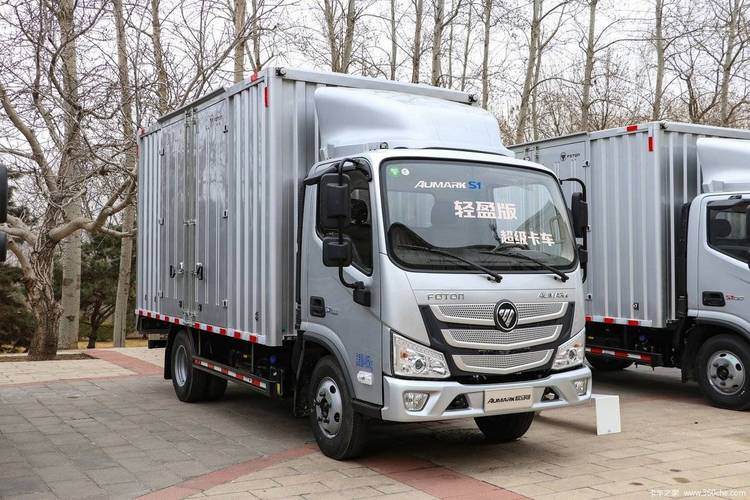卡车: (121, 70, 602, 454)
